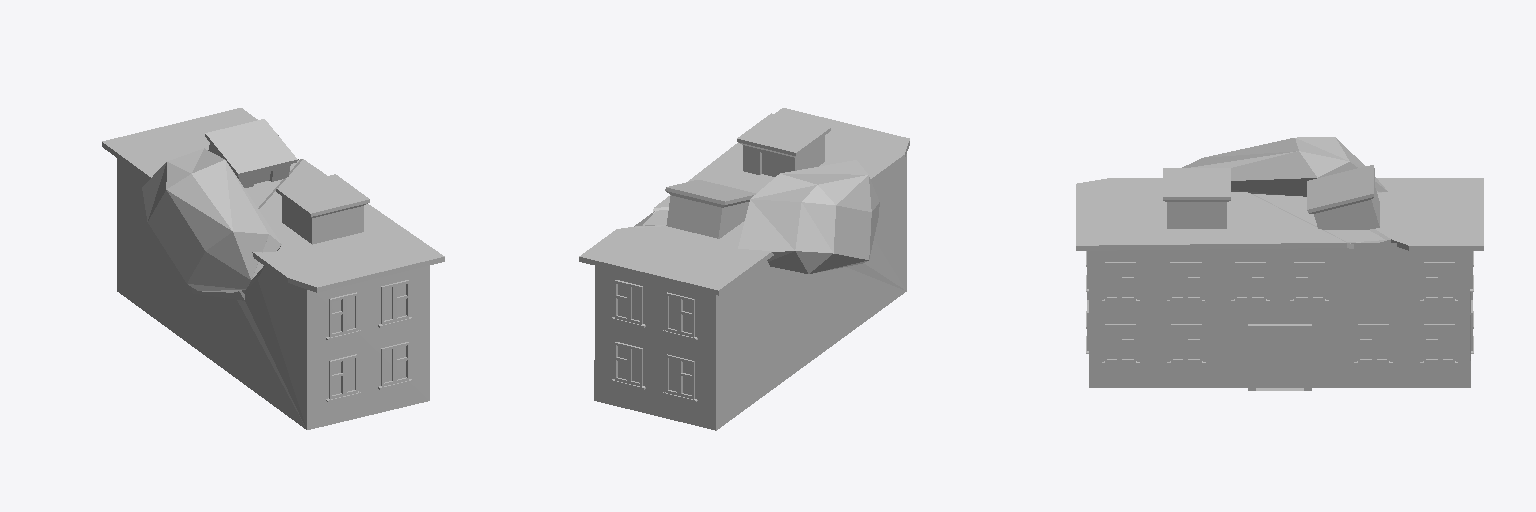
Rendered from build4.obj.
The picture shows the model from 3 angles: view 1: azimuth 30°, elevation 25°; view 2: azimuth 150°, elevation 25°; view 3: azimuth 270°, elevation 25°; orthographic projection.
Visible parts, largest first — view 1: Cube.004, Cube.005_Cube.006, Cube, Cube.002, Cube.001_Cube.018, Cube.013_Cube.017, Cube.003_Cube.014; view 2: Cube.004, Cube.005_Cube.006, Cube, Cube.002, Cube.001_Cube.018, Cube.003_Cube.014, Cube.013_Cube.017; view 3: Cube.004, Cube.005_Cube.006, Cube, Cube.002, Cube.001_Cube.018, Cube.010_Cube.016, Cube.008_Cube.009, Cube.007_Cube.001, Cube.012_Cube.013, Cube.009_Cube.011, Cube.006_Cube.003.
Boxes of the visible parts, x1,y1,x2,y2 form: Cube.004: [117, 158, 429, 429]; Cube.005_Cube.006: [102, 108, 444, 292]; Cube: [142, 148, 281, 292]; Cube.002: [276, 174, 369, 244]; Cube.001_Cube.018: [205, 119, 297, 187]; Cube.013_Cube.017: [326, 342, 412, 401]; Cube.003_Cube.014: [326, 280, 412, 339]; Cube.004: [594, 154, 906, 430]; Cube.005_Cube.006: [579, 108, 909, 295]; Cube: [738, 160, 879, 273]; Cube.002: [737, 113, 830, 176]; Cube.001_Cube.018: [665, 180, 755, 238]; Cube.003_Cube.014: [611, 280, 697, 339]; Cube.013_Cube.017: [611, 342, 697, 401]; Cube.004: [1089, 194, 1470, 387]; Cube.005_Cube.006: [1076, 178, 1483, 250]; Cube: [1182, 137, 1387, 196]; Cube.002: [1163, 168, 1230, 228]; Cube.001_Cube.018: [1307, 165, 1379, 229]; Cube.010_Cube.016: [1248, 324, 1311, 390]; Cube.008_Cube.009: [1231, 262, 1328, 302]; Cube.007_Cube.001: [1102, 262, 1457, 302]; Cube.012_Cube.013: [1167, 324, 1392, 364]; Cube.009_Cube.011: [1102, 324, 1457, 364]; Cube.006_Cube.003: [1167, 262, 1205, 302].
Bounding box in the file's own units: 6.71 × 6.97 × 13.59.